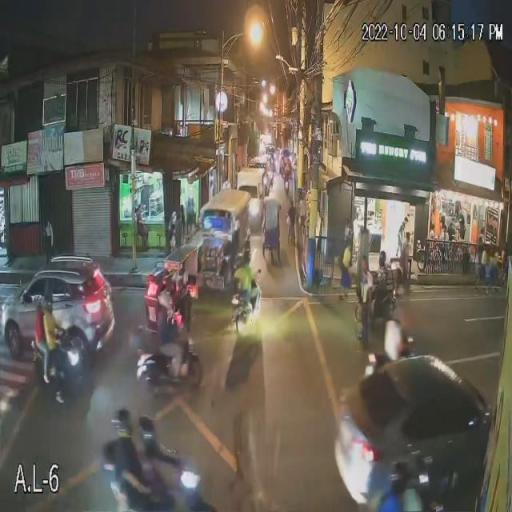helmet: (138, 420, 157, 453), (113, 414, 132, 440), (160, 292, 174, 308), (241, 250, 252, 265), (44, 299, 53, 314), (379, 254, 387, 268), (34, 298, 42, 310)
motorcycle: (26, 330, 93, 400), (135, 336, 204, 384), (230, 276, 267, 331), (354, 284, 404, 320)
rider: (137, 412, 168, 503), (110, 408, 136, 509), (156, 295, 182, 365), (44, 297, 60, 369), (374, 252, 394, 301), (234, 252, 252, 299), (34, 300, 44, 360)
